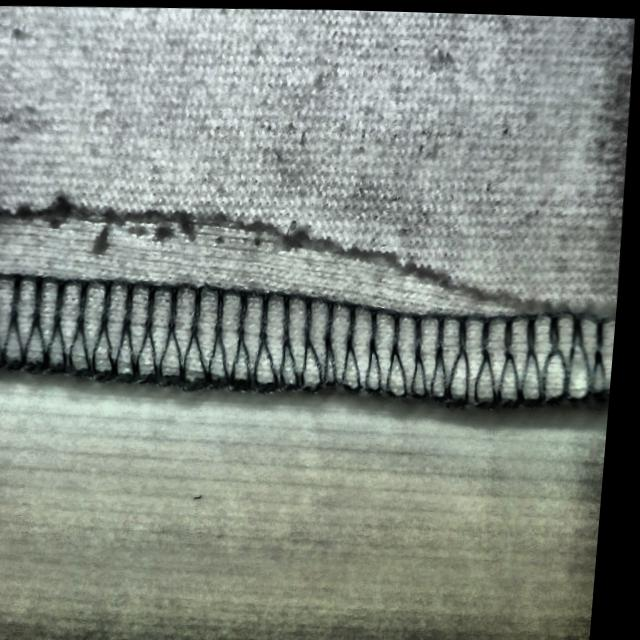seam: (0, 153, 570, 416)
